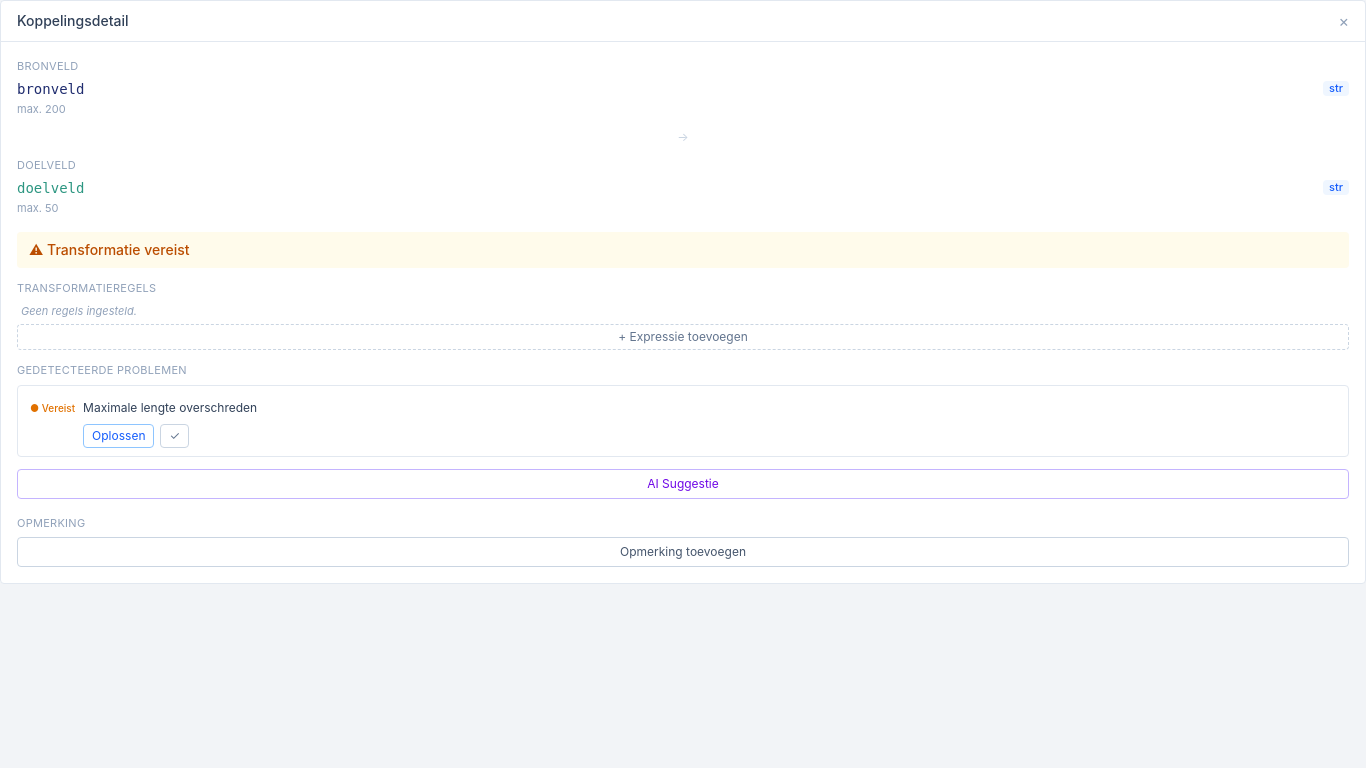
it: CouplingDetailPanel — manual mismatch resolution › marks mismatch as manually resolved when Markeer als opgelost is clicked
Click the button with test id "mismatch-mark-resolved-truncate": x=175, y=436 [160, 424, 189, 448]
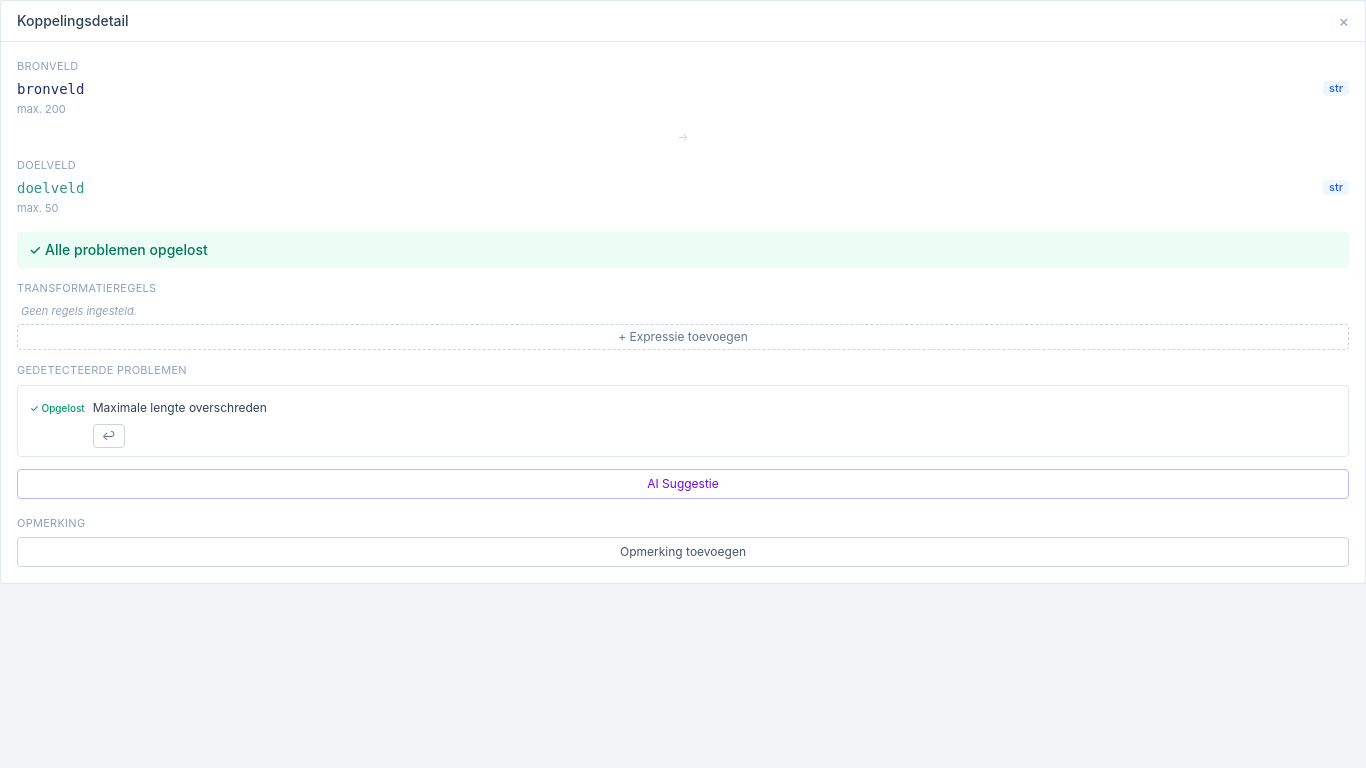
Check: the text with test id "mismatch-status-truncate" reads "✓ Opgelost", box [30, 402, 85, 414]
